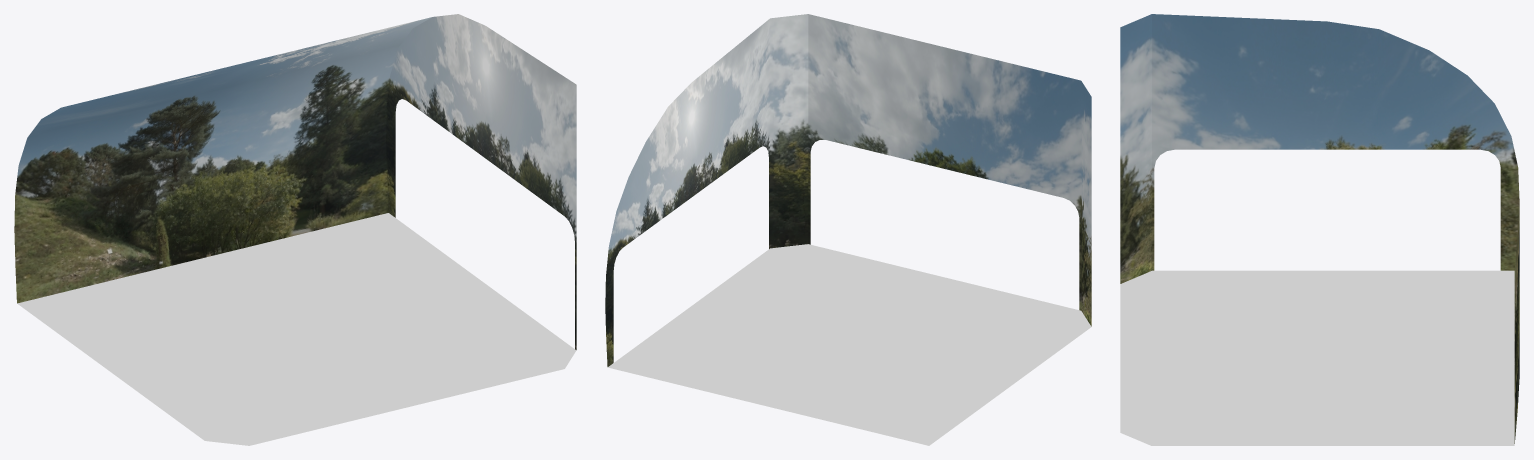
Rendered from PZ_room3.glb.
The picture shows the model from 3 angles, left to right: view 1: azimuth 30°, elevation 25°; view 2: azimuth 150°, elevation 25°; view 3: azimuth 270°, elevation 25°; orthographic projection. The views are drawn at different scales.
Parts seen in each view (by area): view 1: Plane; view 2: Plane; view 3: Plane.
Part boxes in pixels (box(x1,y1,x2,y2)): Plane: box(14, 14, 576, 445); Plane: box(605, 14, 1091, 445); Plane: box(1120, 14, 1519, 445).
Size of the model in its own units: 20.48 by 14 by 19.73.
2 materials, 1 textured.
